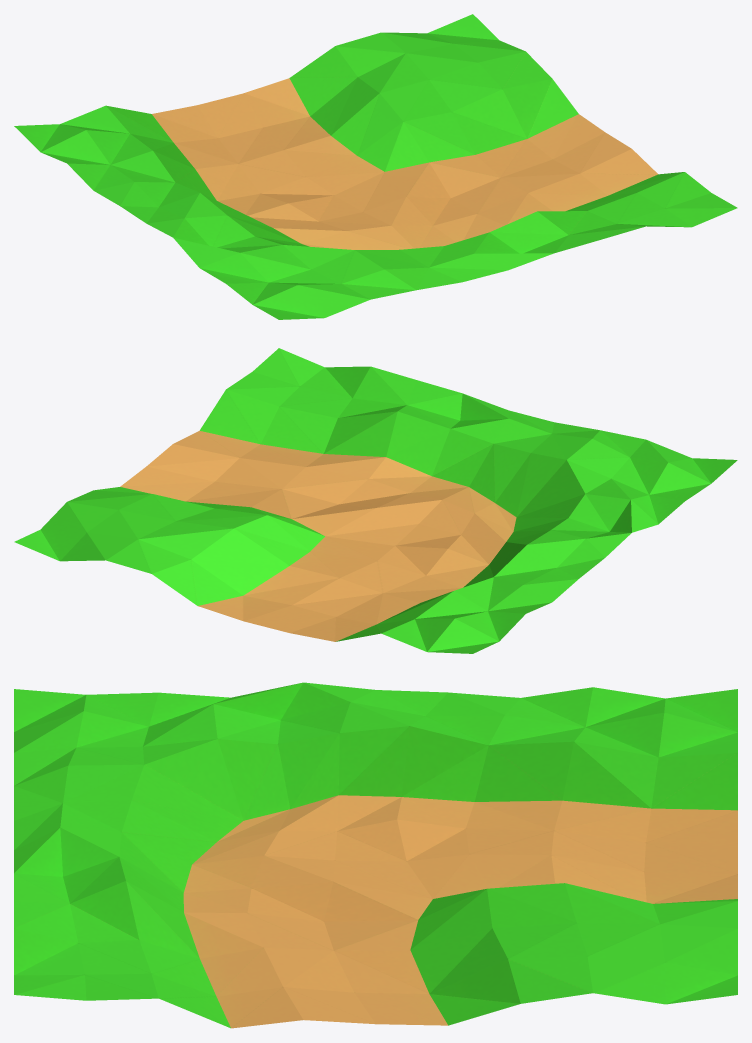
The model's file is road1100.glb.
3 views of the same model, one above another, from view 1: azimuth 30°, elevation 25°; view 2: azimuth 150°, elevation 25°; view 3: azimuth 270°, elevation 25° (orthographic). The views are drawn at different scales.
Parts seen in each view (by area): view 1: Plain_Up.001; view 2: Plain_Up.001; view 3: Plain_Up.001.
Boxes of the visible parts, bbox=[...] form: Plain_Up.001: bbox=[14, 14, 737, 319]; Plain_Up.001: bbox=[14, 348, 737, 653]; Plain_Up.001: bbox=[14, 682, 737, 1028].
Size of the model in its own units: 10 by 0.7623 by 10.
Materials: 2 (2 with a texture image).
